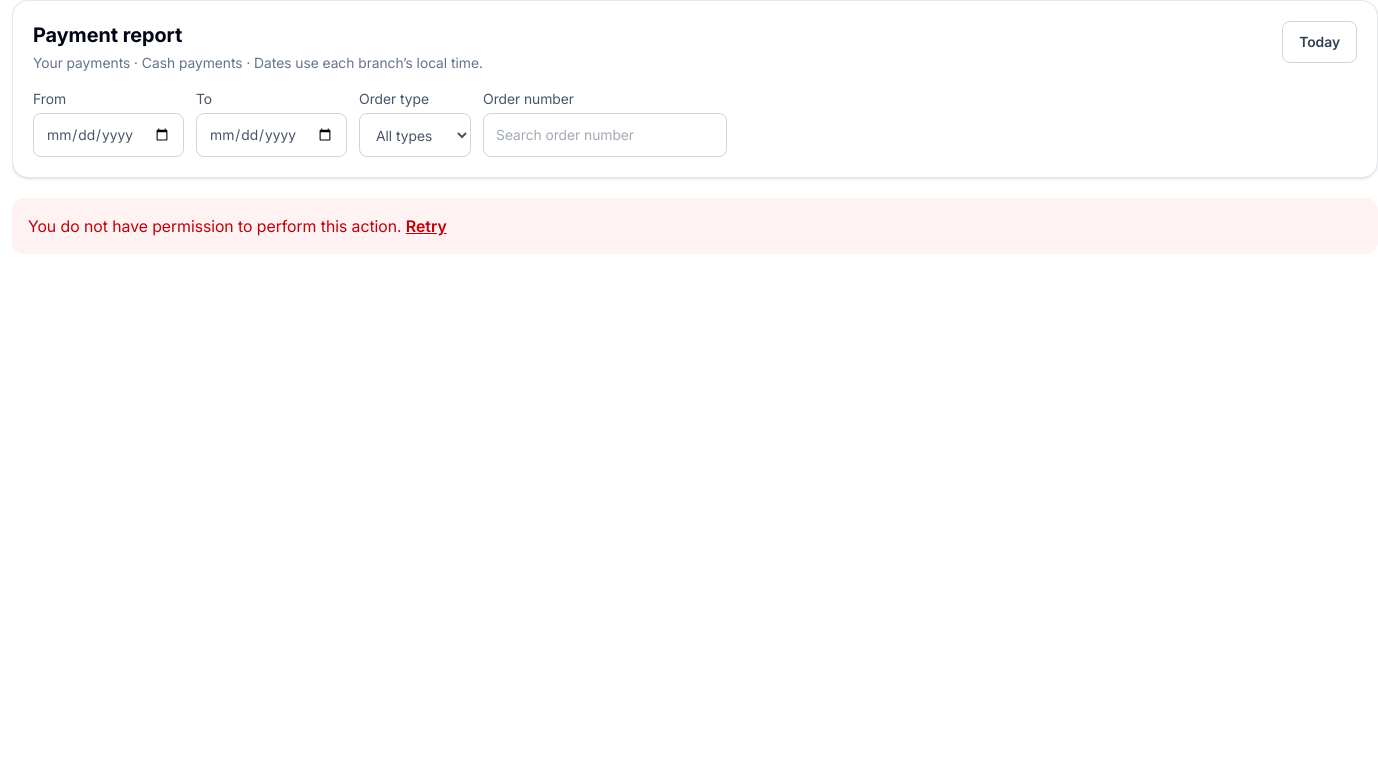
Test: payment report › shows forbidden errors and offers retry
The image size is (1378, 768).
Check: the message "You do not have permission to perform this action. Retry" is shown, box top-left (12, 198), bottom-right (1377, 254)
Click the button "Retry" at (426, 226), box top-left (406, 214), bottom-right (447, 238)
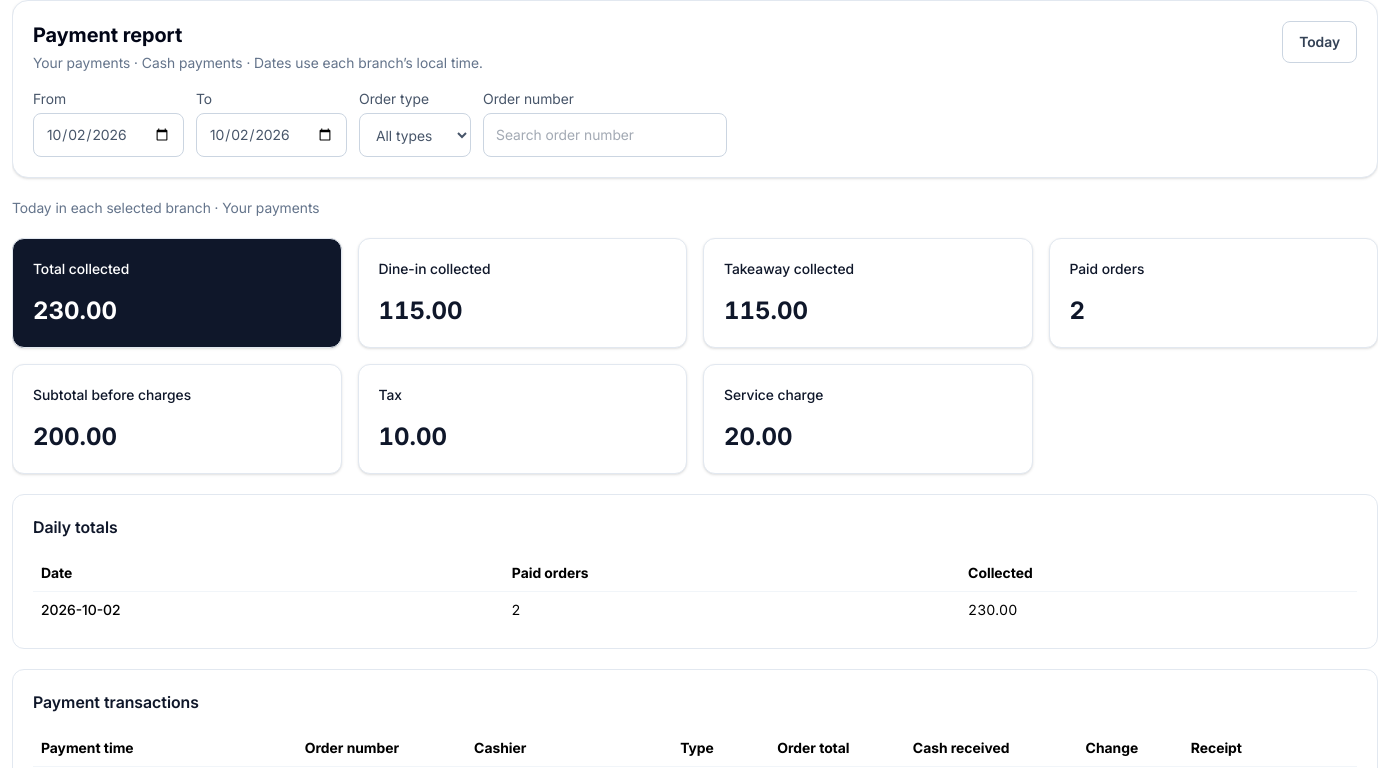
Check: the text "230.00" is shown, box top-left (33, 296), bottom-right (117, 325)
